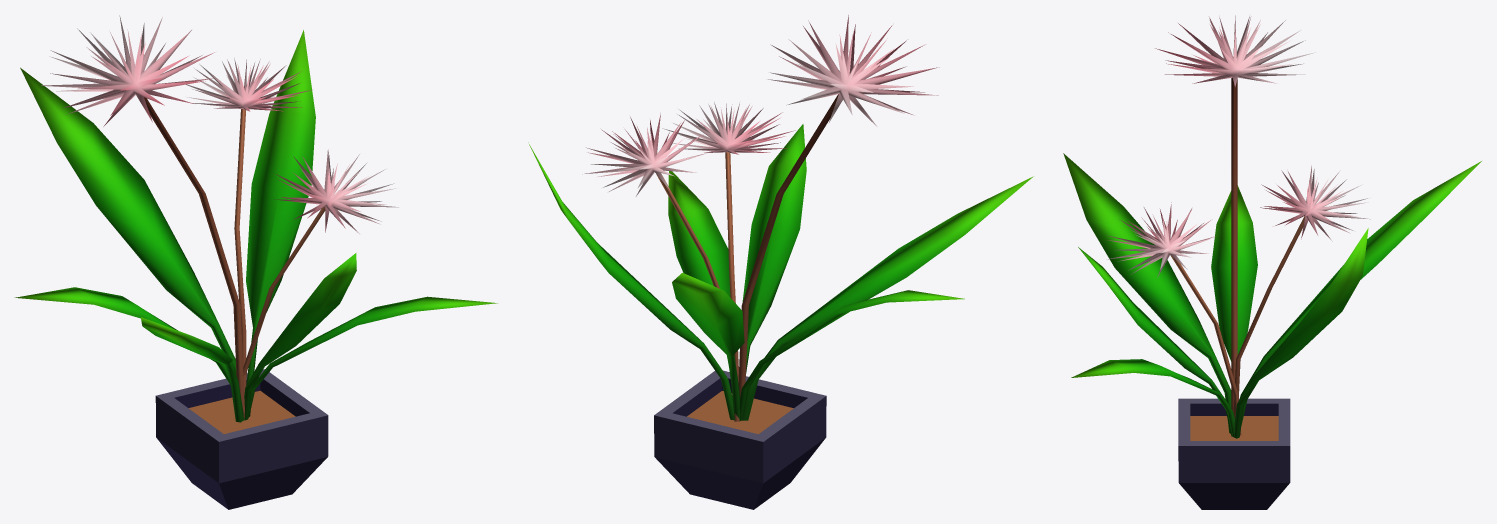
The model's file is pfp02.fbx.
3 renders of one model, left to right at view 1: azimuth 30°, elevation 25°; view 2: azimuth 150°, elevation 25°; view 3: azimuth 270°, elevation 25°, orthographic. The views are drawn at different scales.
Visible parts, largest first — view 1: pfp02; view 2: pfp02; view 3: pfp02.
Part boxes in pixels (x1,y1,x2,y2): pfp02: [14, 15, 497, 509]; pfp02: [528, 15, 1033, 509]; pfp02: [1063, 15, 1481, 509].
Bounding box in the file's own units: 71.94 × 84.37 × 75.41.
